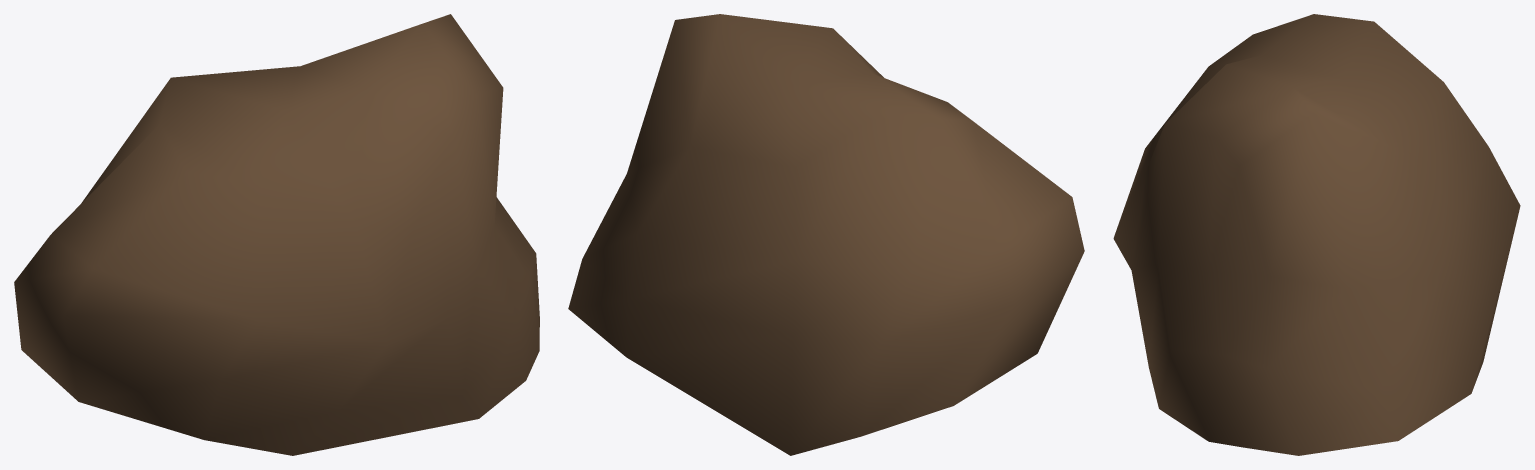
Rendered from shituo7.FBX.
3 renders of one model, left to right at view 1: azimuth 30°, elevation 25°; view 2: azimuth 150°, elevation 25°; view 3: azimuth 270°, elevation 25°, orthographic. The views are drawn at different scales.
Parts seen in each view (by area): view 1: 对象006; view 2: 对象006; view 3: 对象006.
Boxes of the visible parts, x1,y1,x2,y2 form: 对象006: (14,14,539,455); 对象006: (568,14,1084,455); 对象006: (1113,14,1520,455).
Bounding box in the file's own units: 1.5 × 1.07 × 1.1.
